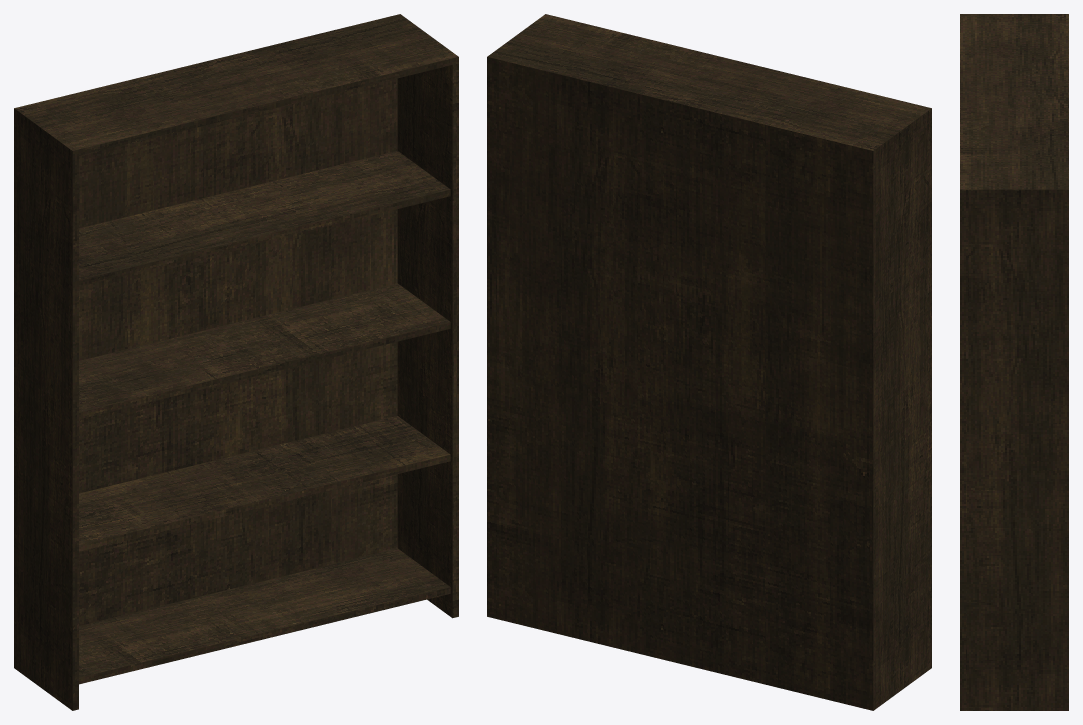
The model's file is shelf_mp_5_3.glb.
3 renders of one model, left to right at view 1: azimuth 30°, elevation 25°; view 2: azimuth 150°, elevation 25°; view 3: azimuth 270°, elevation 25°, orthographic. The views are drawn at different scales.
Parts seen in each view (by area): view 1: shelf_mp_5_3; view 2: shelf_mp_5_3; view 3: shelf_mp_5_3.
Part boxes in pixels (box(x1,y1,x2,y2)): shelf_mp_5_3: box(14, 14, 458, 710); shelf_mp_5_3: box(487, 14, 931, 710); shelf_mp_5_3: box(960, 14, 1068, 710).
Bounding box in the file's own units: 1.22 × 1.69 × 0.32.
Materials: 1 (1 with a texture image).
